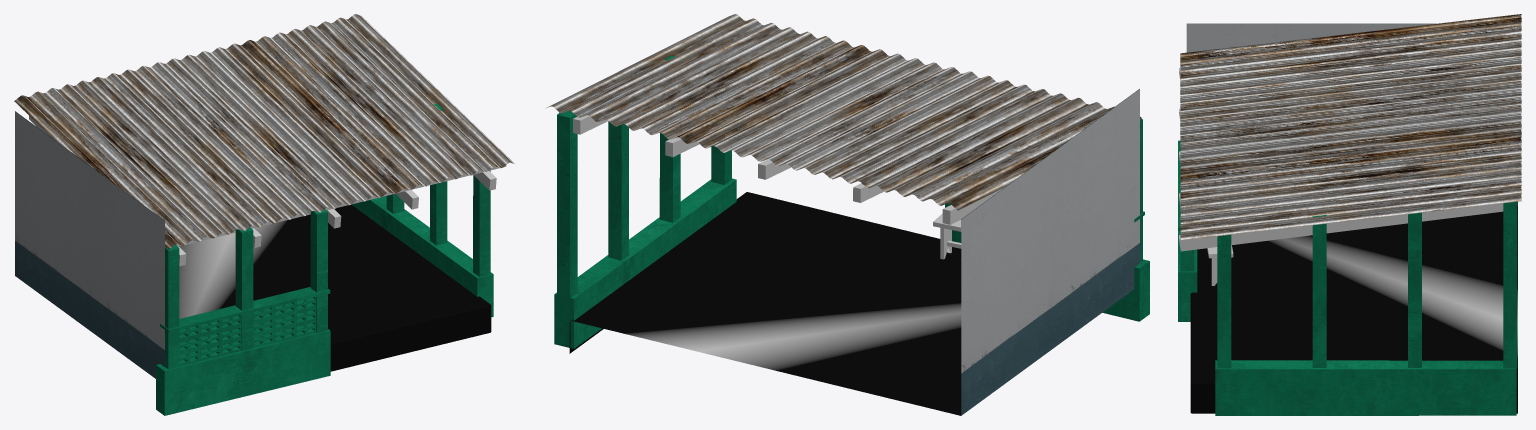
File: Room_HazardsExterior.FBX
3 renders of one model, left to right at view 1: azimuth 30°, elevation 25°; view 2: azimuth 150°, elevation 25°; view 3: azimuth 270°, elevation 25°, orthographic. The views are drawn at different scales.
Parts seen in each view (by area): view 1: Room_HazardsExt; view 2: Room_HazardsExt; view 3: Room_HazardsExt.
Boxes of the visible parts, <box> form: Room_HazardsExt: <box>14,14,514,415</box>; Room_HazardsExt: <box>545,14,1149,415</box>; Room_HazardsExt: <box>1178,14,1521,415</box>.
Bounding box in the file's own units: 264 × 147 × 202.
